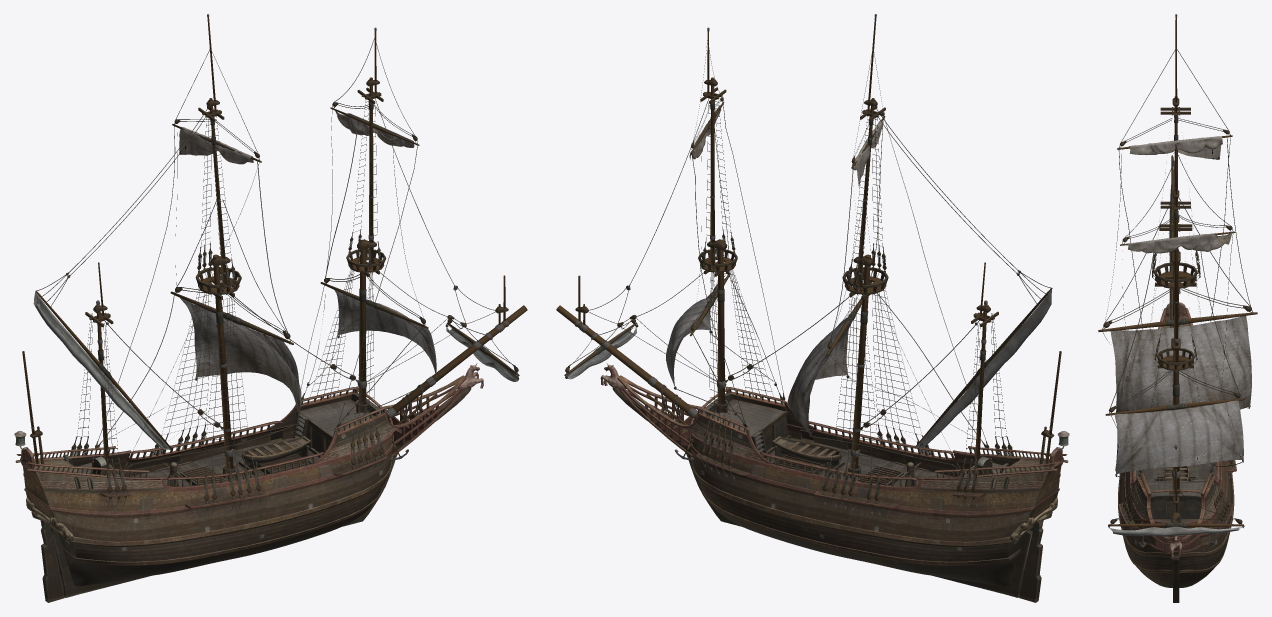
Rendered from dutch_ship_medium.glb.
The picture shows the model from 3 angles, left to right: view 1: azimuth 30°, elevation 25°; view 2: azimuth 150°, elevation 25°; view 3: azimuth 270°, elevation 25°; orthographic projection. The views are drawn at different scales.
Visible parts, largest first — view 1: dutch_ship_medium_hull, dutch_ship_medium_rigging, dutch_ship_medium_sails; view 2: dutch_ship_medium_hull, dutch_ship_medium_rigging, dutch_ship_medium_sails; view 3: dutch_ship_medium_sails, dutch_ship_medium_rigging, dutch_ship_medium_hull.
Boxes of the visible parts, left/top/right/bottom form: dutch_ship_medium_hull: left=14, top=363, right=483, bottom=602; dutch_ship_medium_rigging: left=22, top=14, right=527, bottom=516; dutch_ship_medium_sails: left=179, top=111, right=436, bottom=419; dutch_ship_medium_hull: left=600, top=363, right=1069, bottom=602; dutch_ship_medium_rigging: left=556, top=14, right=1061, bottom=516; dutch_ship_medium_sails: left=666, top=105, right=882, bottom=433; dutch_ship_medium_sails: left=1110, top=136, right=1251, bottom=474; dutch_ship_medium_rigging: left=1098, top=14, right=1257, bottom=547; dutch_ship_medium_hull: left=1115, top=289, right=1236, bottom=602.
Bounding box in the file's own units: 24.07 × 24.66 × 6.81.
3 materials, 3 textured.
